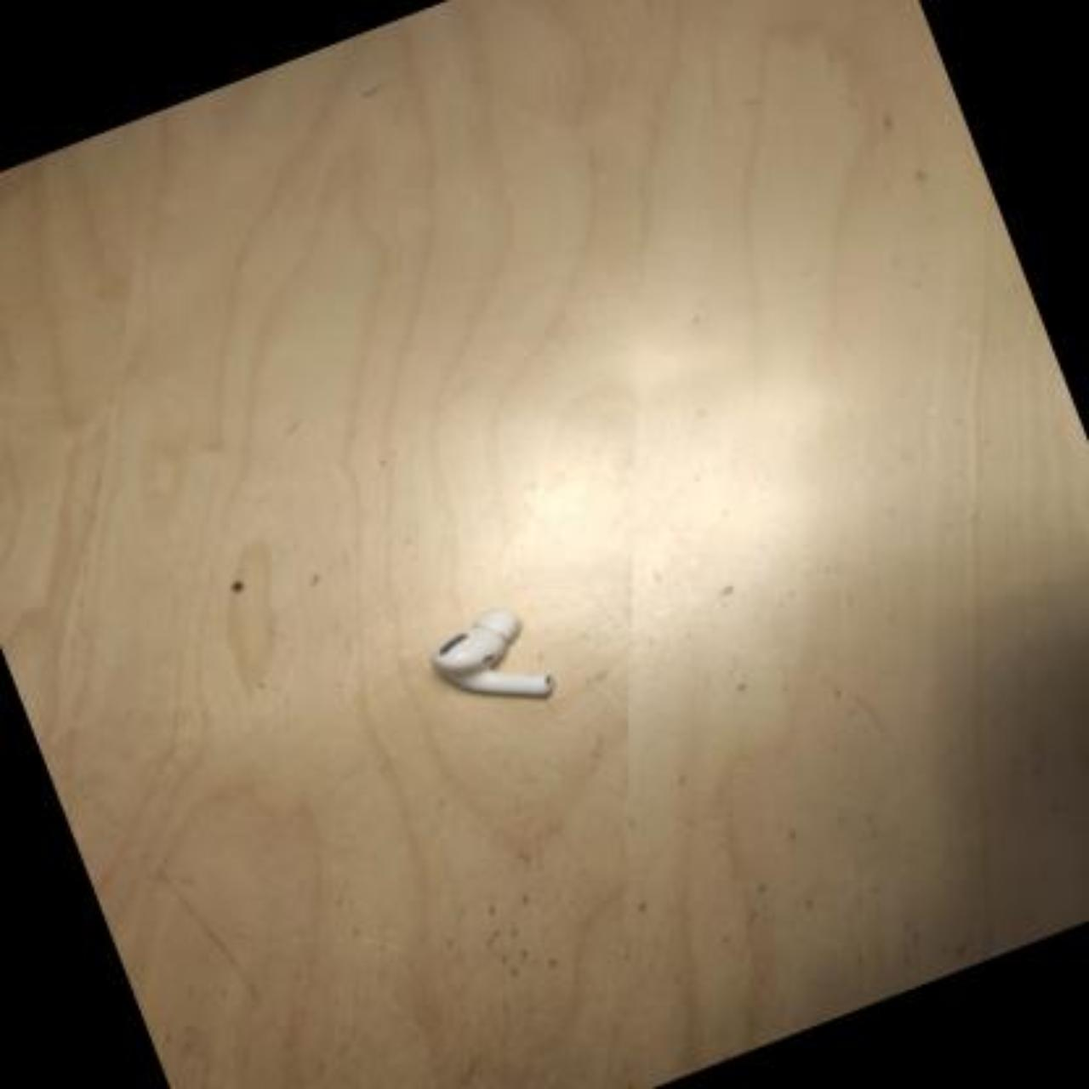Airpods_Units: (426, 598, 556, 726)
